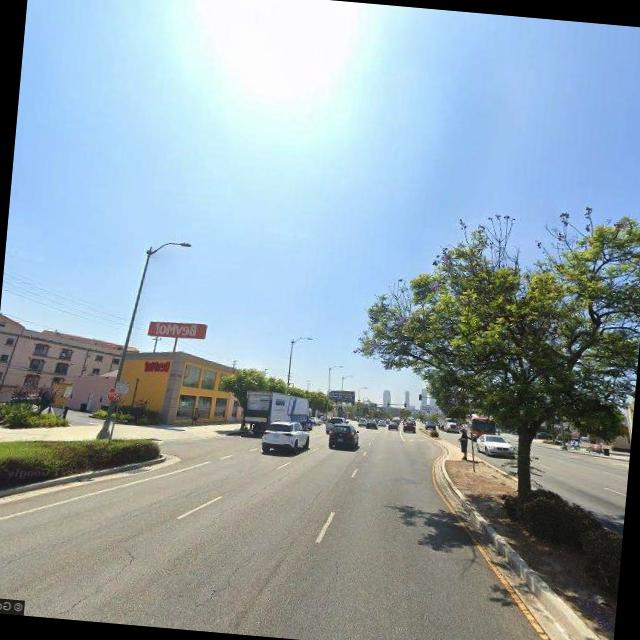pothole: (34, 540, 142, 623), (193, 549, 256, 614)
